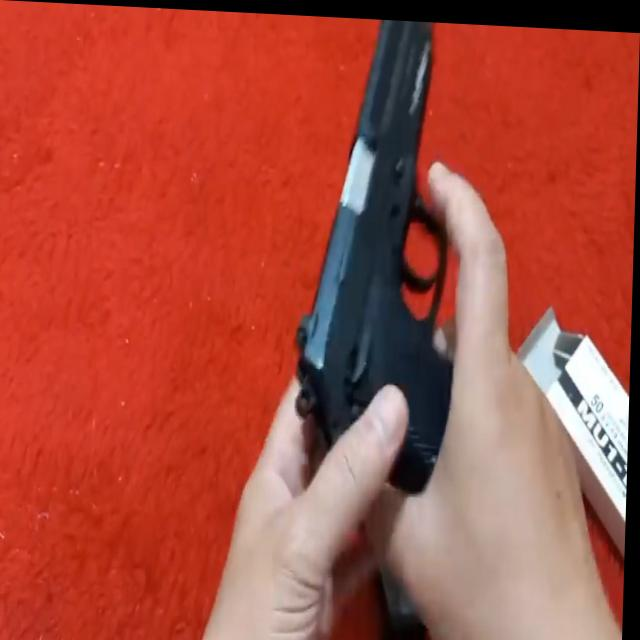handgun: (292, 16, 473, 501)
